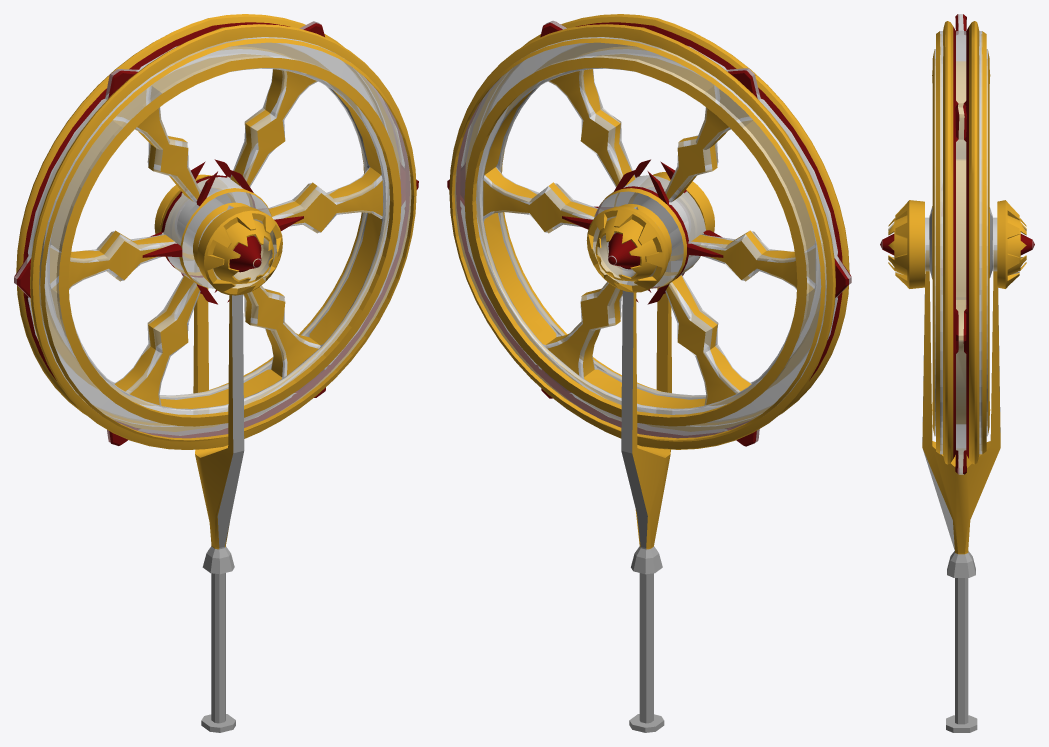
File: weaponChariot_02.fbx
3 renders of one model, left to right at view 1: azimuth 30°, elevation 25°; view 2: azimuth 150°, elevation 25°; view 3: azimuth 270°, elevation 25°, orthographic. The views are drawn at different scales.
Visible parts, largest first — view 1: wheel, wheelHandle; view 2: wheel, wheelHandle; view 3: wheel, wheelHandle.
Boxes of the visible parts, <box> form: wheel: <box>14,14,418,449</box>; wheelHandle: <box>193,288,244,732</box>; wheel: <box>447,14,851,449</box>; wheelHandle: <box>621,268,671,732</box>; wheel: <box>880,14,1034,474</box>; wheelHandle: <box>922,245,1000,732</box>.
Size of the model in its own units: 2 by 3.34 by 0.6833.
